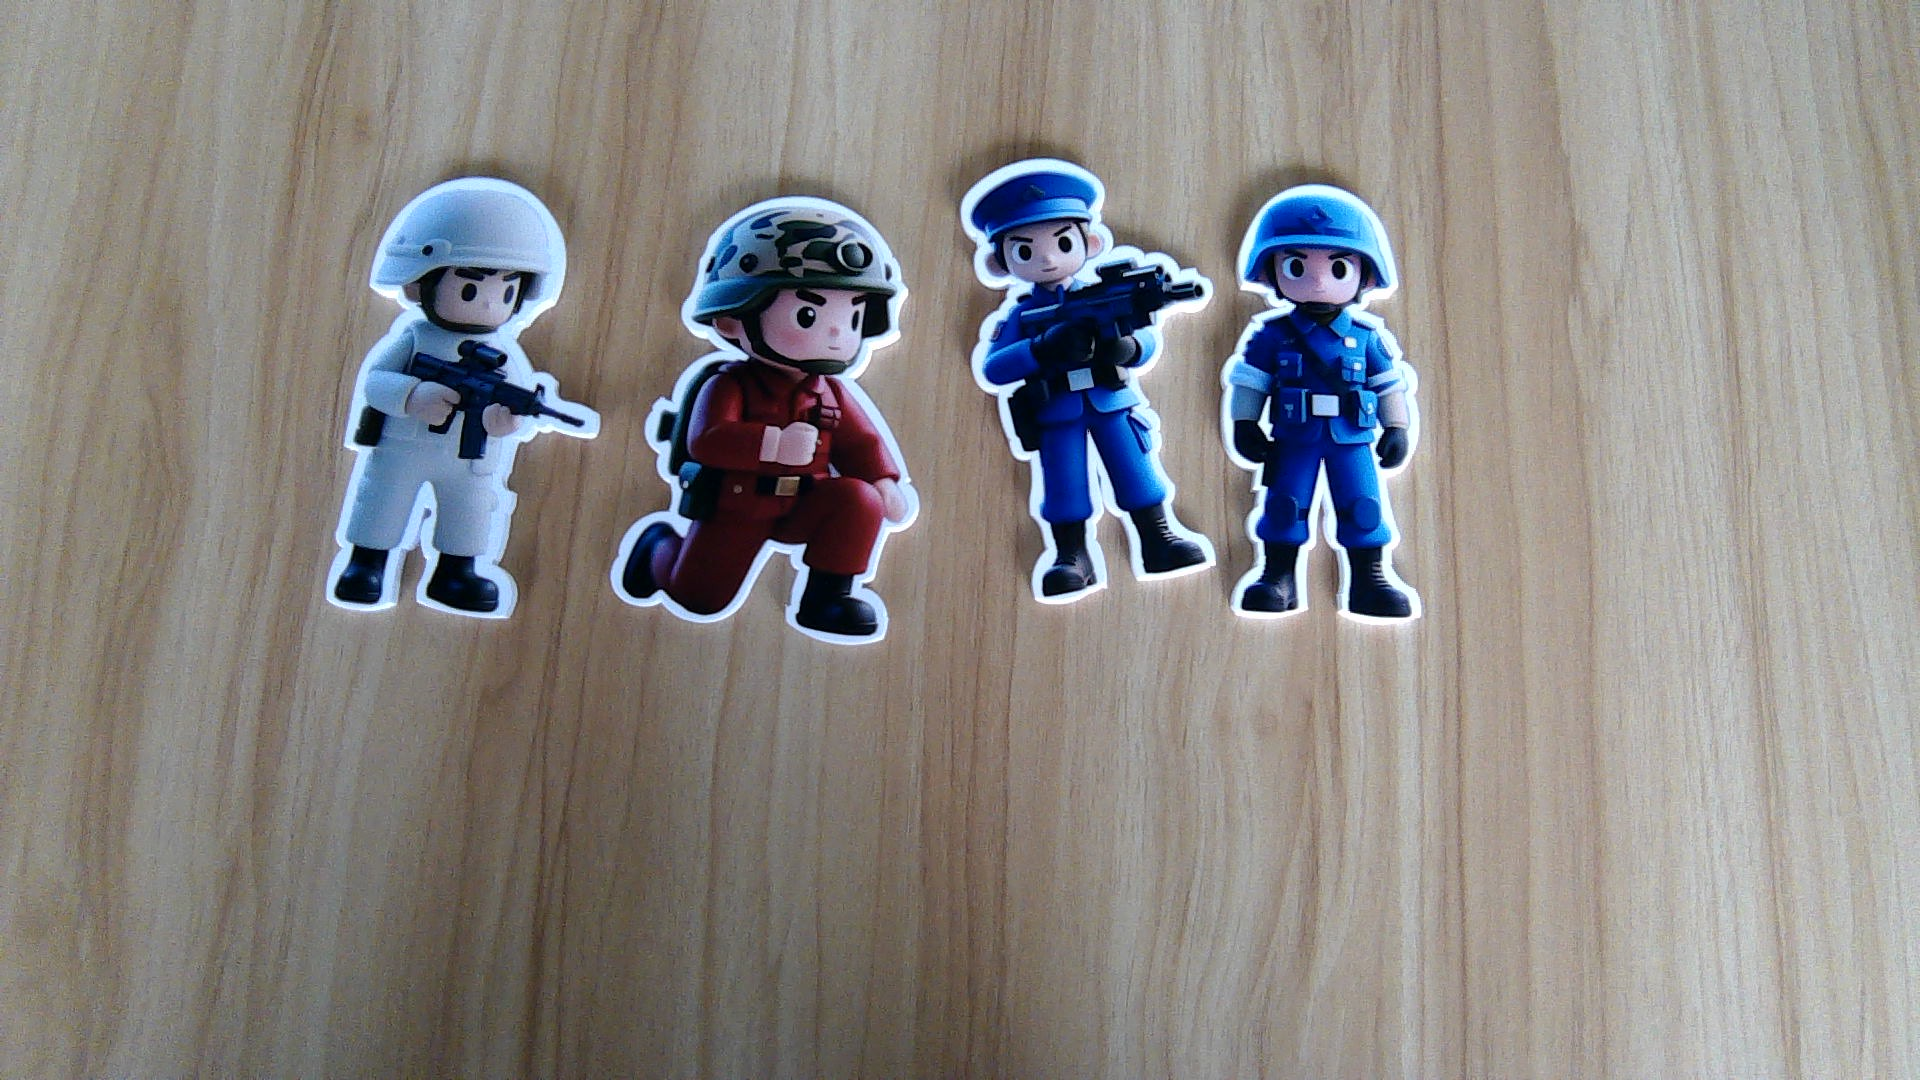人质: (320, 327, 596, 621)
敌人1: (611, 369, 920, 647)
敌人2: (965, 285, 1217, 603), (1217, 306, 1429, 633)
